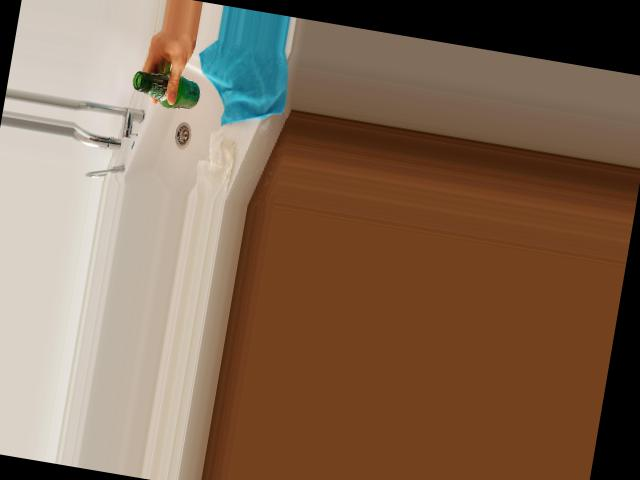beer: (130, 65, 203, 113)
